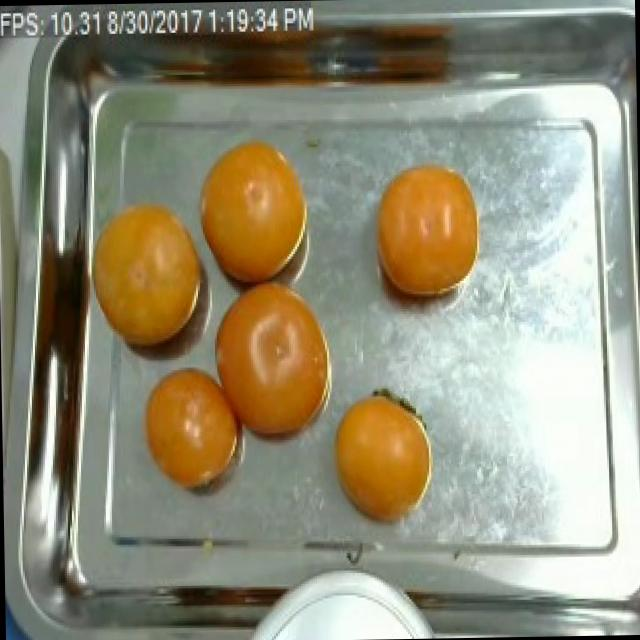Fruit: (199, 264, 349, 472), (85, 185, 208, 364), (188, 129, 314, 297), (315, 378, 444, 540), (128, 351, 258, 506), (365, 153, 492, 309)
